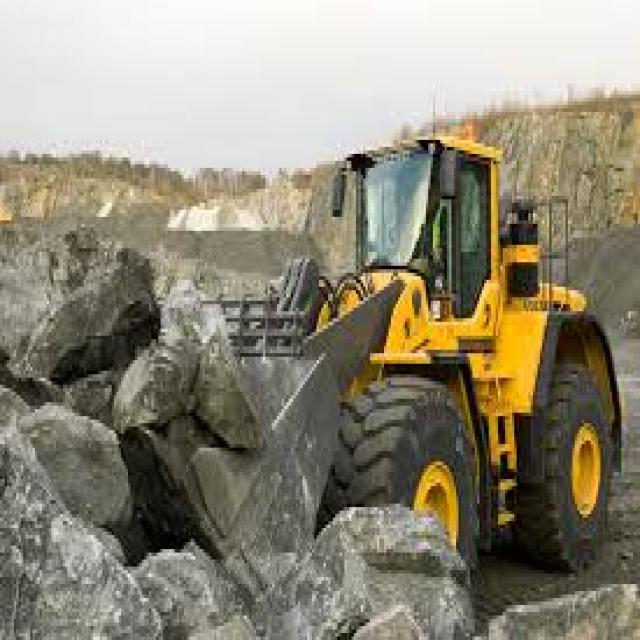buldozerpayloadergrader: (285, 128, 630, 596)
